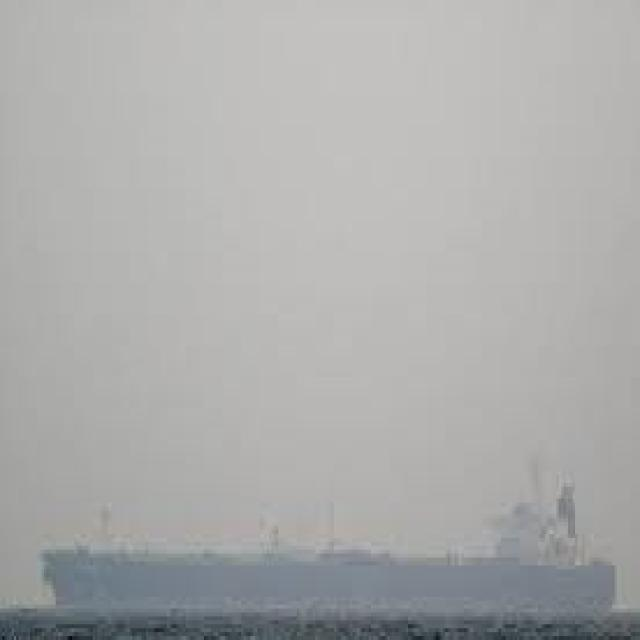cargoship: (36, 457, 618, 618)
